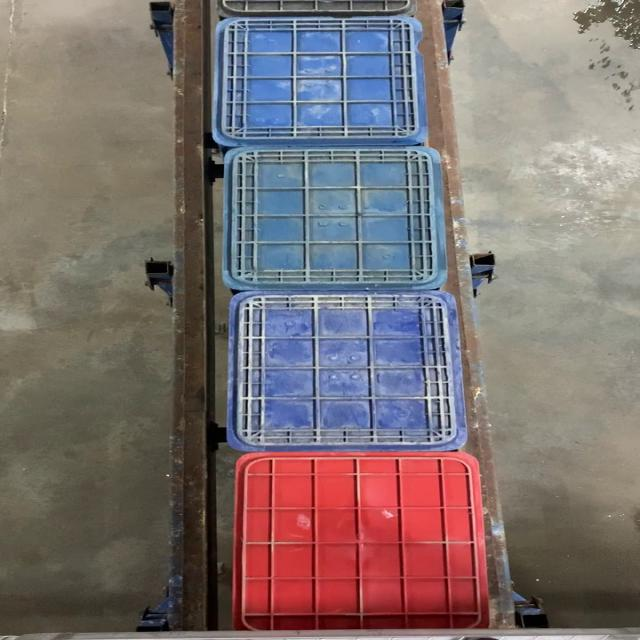Box: (221, 292, 473, 452), (218, 148, 450, 291), (207, 17, 430, 148)
